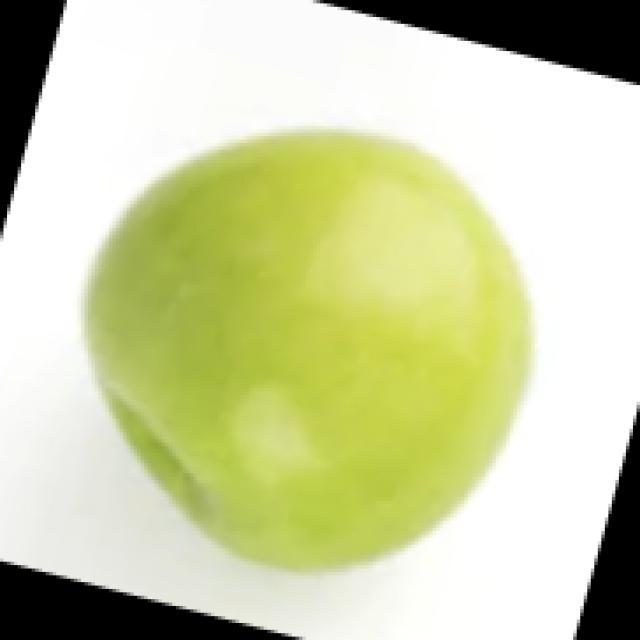Fresh Apple: (128, 130, 505, 580)
